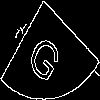G: (25, 25, 68, 86)
